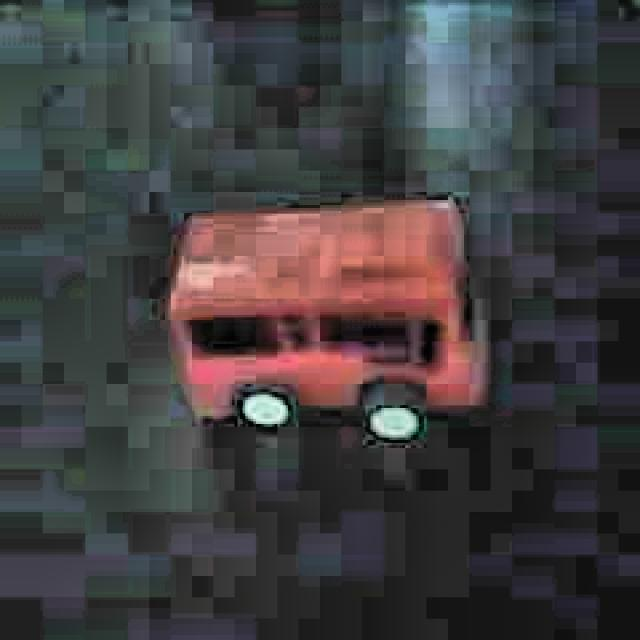bus: (159, 182, 501, 467)
